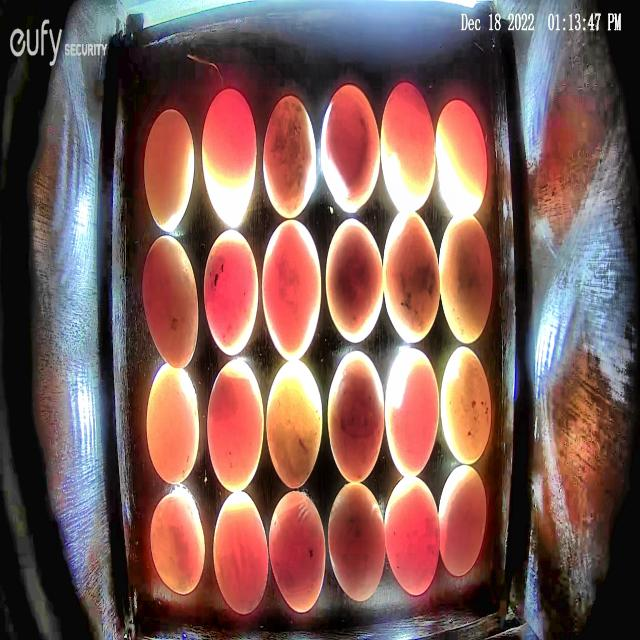DE: (262, 218, 322, 360), (142, 234, 200, 370), (327, 350, 385, 485), (202, 87, 256, 228), (207, 361, 264, 494), (384, 208, 440, 343), (324, 217, 384, 342), (321, 84, 380, 211), (266, 358, 323, 488), (384, 347, 440, 479), (268, 488, 326, 614), (380, 81, 435, 212), (212, 488, 268, 614), (203, 228, 258, 356), (439, 215, 493, 345), (328, 482, 386, 602), (384, 476, 441, 595), (262, 95, 317, 218), (142, 108, 195, 232), (434, 98, 488, 219), (146, 363, 200, 484), (440, 345, 492, 467), (150, 491, 206, 596), (438, 464, 487, 577)
